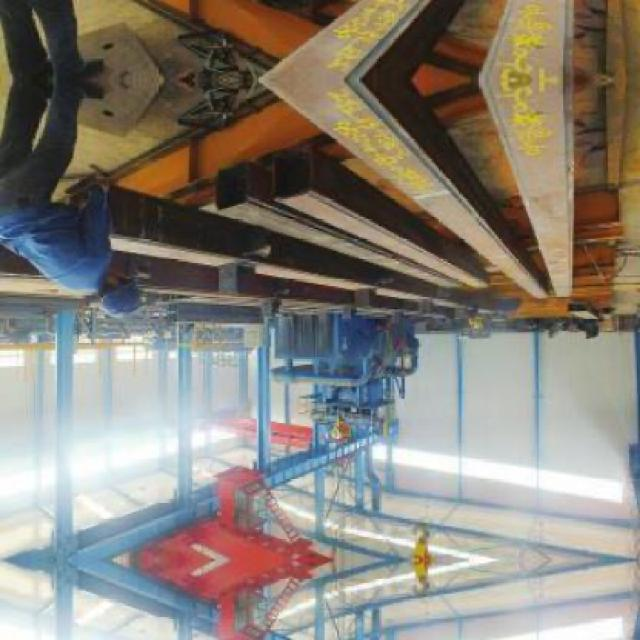con casco: (74, 249, 144, 328)
